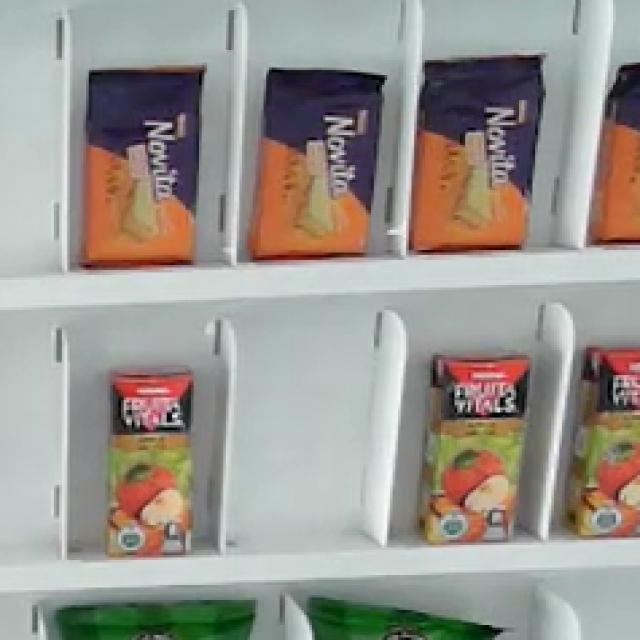Plastic: (245, 62, 390, 258), (410, 51, 548, 252), (80, 58, 208, 265), (413, 348, 535, 544), (102, 362, 203, 561), (556, 340, 640, 541), (589, 55, 640, 250)
